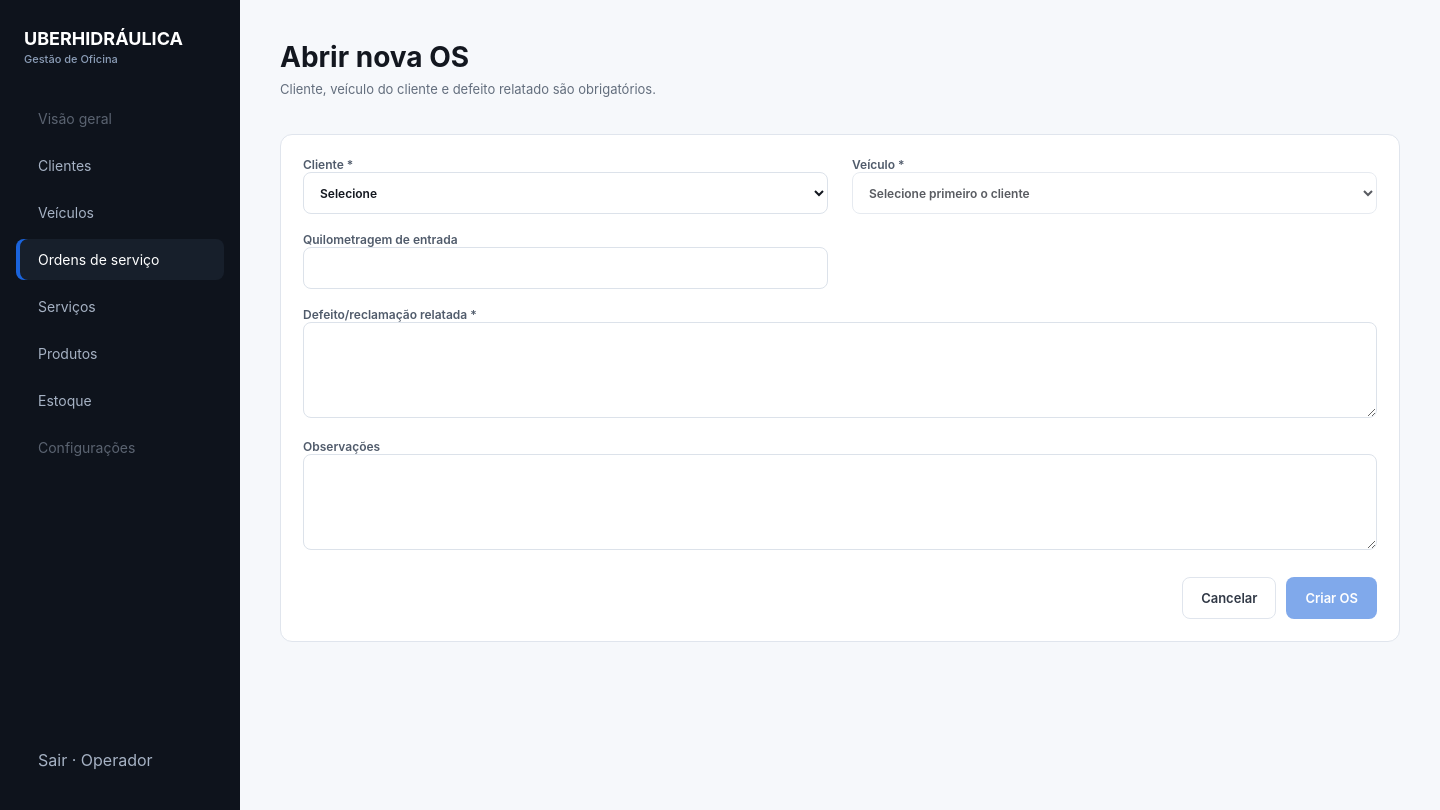
Scenario: OS exige defeito/reclamação relatada
Select "Cliente API" in the dropdown labelled "Cliente": (566, 193) x1=303 y1=172 x2=828 y2=214
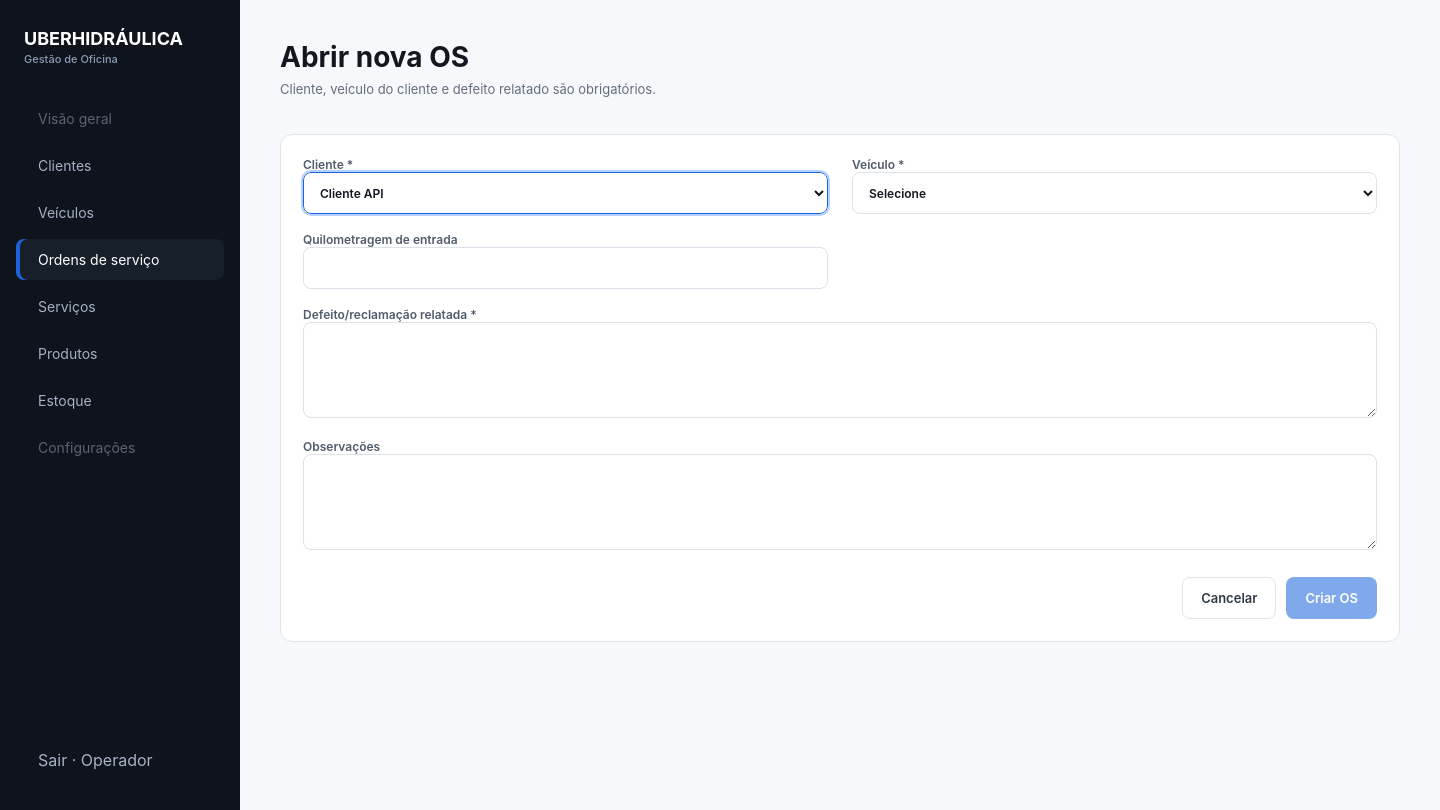
Select "Marca Modelo • AAA1A11" in the dropdown labelled "Veículo": (1114, 193) x1=852 y1=172 x2=1377 y2=214
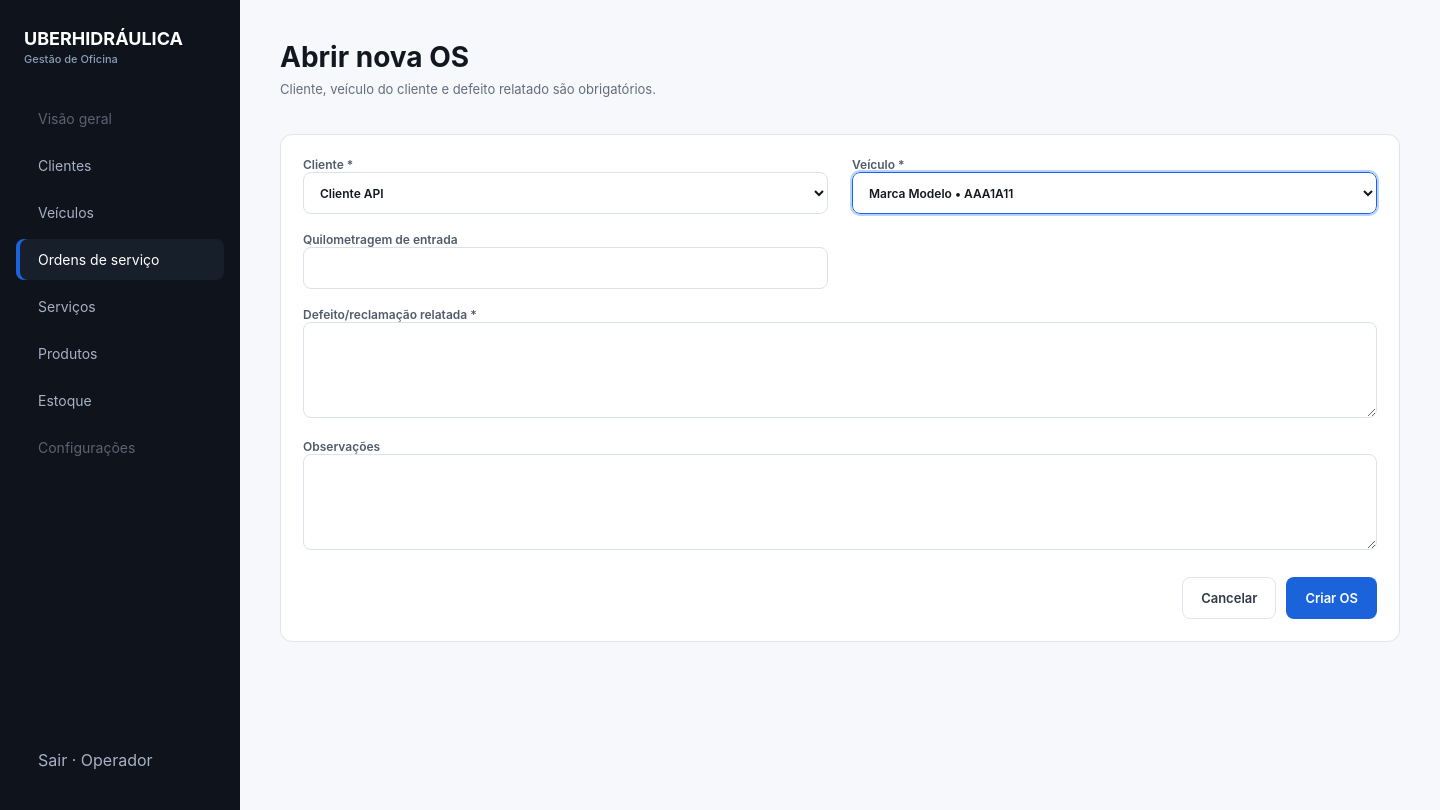
Click the button "Criar OS": (1332, 598) x1=1286 y1=577 x2=1377 y2=619
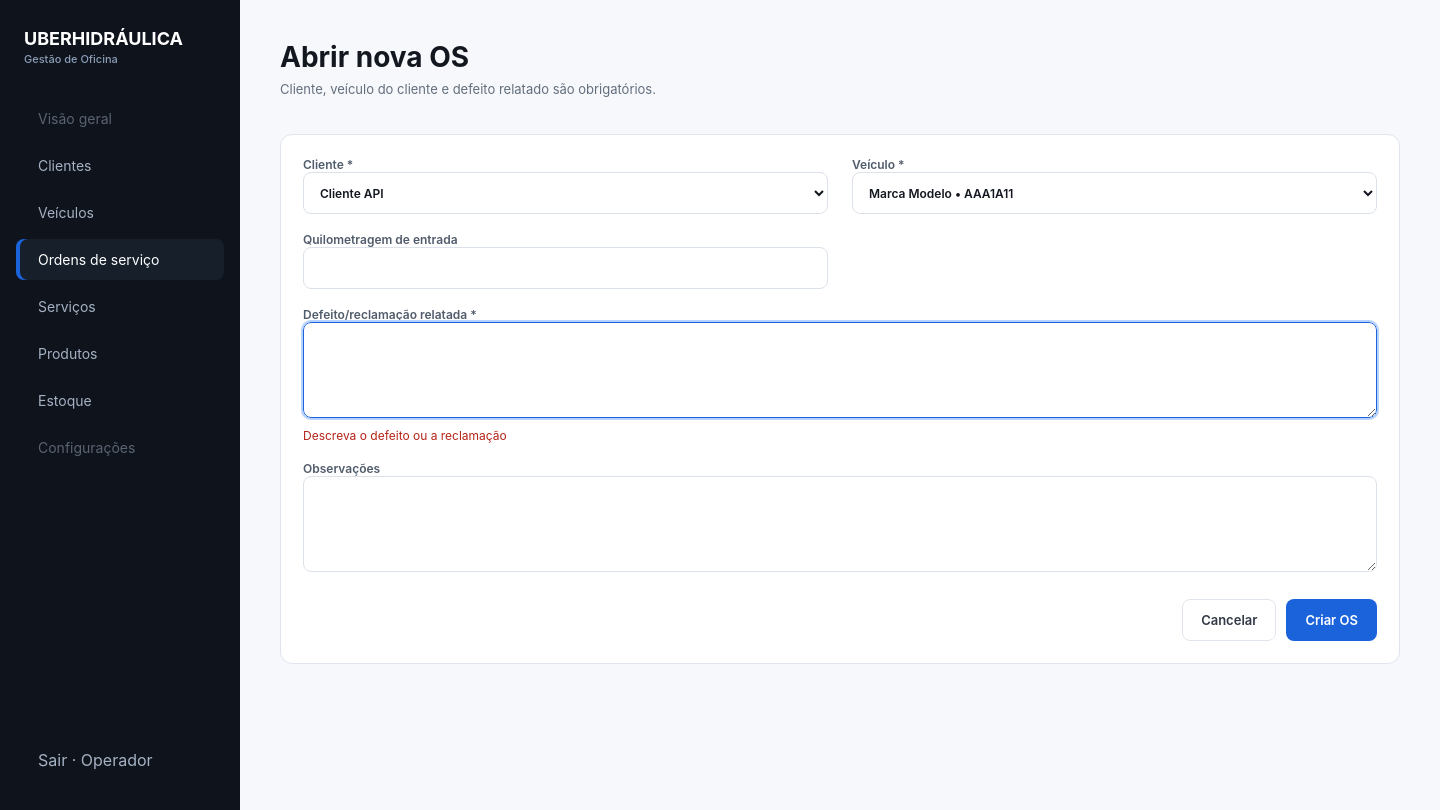
Now the message reads "Descreva o defeito ou a reclamação", box x1=303 y1=428 x2=507 y2=443
